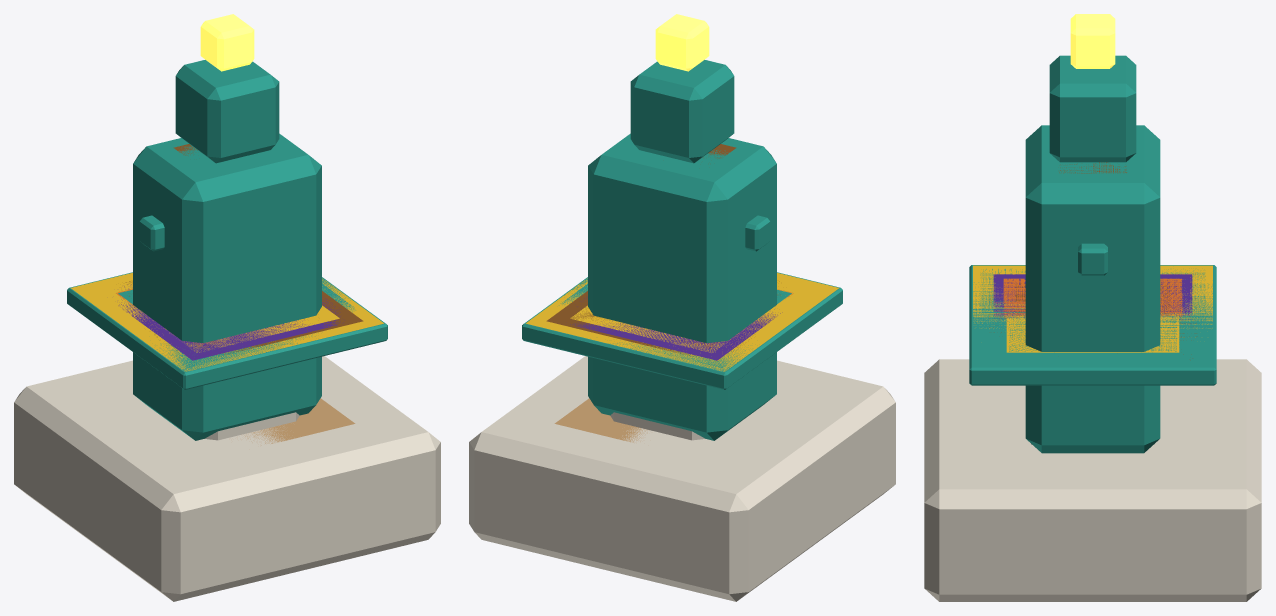
File: flagship_props_022.glb
3 views of the same model, side by side, from view 1: azimuth 30°, elevation 25°; view 2: azimuth 150°, elevation 25°; view 3: azimuth 270°, elevation 25° (orthographic). The views are drawn at different scales.
Parts seen in each view (by area): view 1: Prop_BBIsle_Statue_18, Prop_BBIsle_Sundial_01, Prop_BBIsle_Sundial_05, Prop_BBIsle_Sundial_13, Prop_BBIsle_Statue_19, Prop_BBIsle_Sundial_00, Prop_BBIsle_Sundial_02, Prop_BBIsle_Sundial_06; view 2: Prop_BBIsle_Statue_18, Prop_BBIsle_Sundial_01, Prop_BBIsle_Sundial_05, Prop_BBIsle_Sundial_13, Prop_BBIsle_Statue_19, Prop_BBIsle_Sundial_00, Prop_BBIsle_Sundial_02, Prop_BBIsle_Sundial_06; view 3: Prop_BBIsle_Statue_18, Prop_BBIsle_Sundial_01, Prop_BBIsle_Sundial_05, Prop_BBIsle_Sundial_00, Prop_BBIsle_Sundial_09, Prop_BBIsle_Sundial_08, Prop_BBIsle_Sundial_06, Prop_BBIsle_Sundial_13, Prop_BBIsle_Sundial_11.
Boxes of the visible parts, left/top/right/bottom form: Prop_BBIsle_Statue_18: left=14, top=14, right=440, bottom=601; Prop_BBIsle_Sundial_01: left=67, top=272, right=387, bottom=440; Prop_BBIsle_Sundial_05: left=71, top=273, right=383, bottom=371; Prop_BBIsle_Sundial_13: left=118, top=287, right=343, bottom=360; Prop_BBIsle_Statue_19: left=173, top=144, right=355, bottom=445; Prop_BBIsle_Sundial_00: left=153, top=305, right=339, bottom=352; Prop_BBIsle_Sundial_02: left=125, top=281, right=363, bottom=357; Prop_BBIsle_Sundial_06: left=166, top=284, right=355, bottom=367; Prop_BBIsle_Statue_18: left=469, top=14, right=895, bottom=601; Prop_BBIsle_Sundial_01: left=522, top=272, right=842, bottom=440; Prop_BBIsle_Sundial_05: left=526, top=273, right=838, bottom=371; Prop_BBIsle_Sundial_13: left=570, top=297, right=782, bottom=360; Prop_BBIsle_Statue_19: left=554, top=144, right=736, bottom=442; Prop_BBIsle_Sundial_00: left=570, top=305, right=756, bottom=352; Prop_BBIsle_Sundial_02: left=546, top=281, right=779, bottom=361; Prop_BBIsle_Sundial_06: left=559, top=284, right=741, bottom=367; Prop_BBIsle_Statue_18: left=924, top=14, right=1261, bottom=601; Prop_BBIsle_Sundial_01: left=969, top=265, right=1216, bottom=444; Prop_BBIsle_Sundial_05: left=973, top=265, right=1212, bottom=337; Prop_BBIsle_Sundial_00: left=1006, top=312, right=1179, bottom=352; Prop_BBIsle_Sundial_09: left=1003, top=278, right=1182, bottom=318; Prop_BBIsle_Sundial_08: left=996, top=275, right=1189, bottom=318; Prop_BBIsle_Sundial_06: left=980, top=269, right=1205, bottom=333; Prop_BBIsle_Sundial_13: left=993, top=274, right=1192, bottom=320; Prop_BBIsle_Sundial_11: left=1009, top=316, right=1176, bottom=351.
Size of the model in its own units: 1.36 by 2.29 by 1.36.
